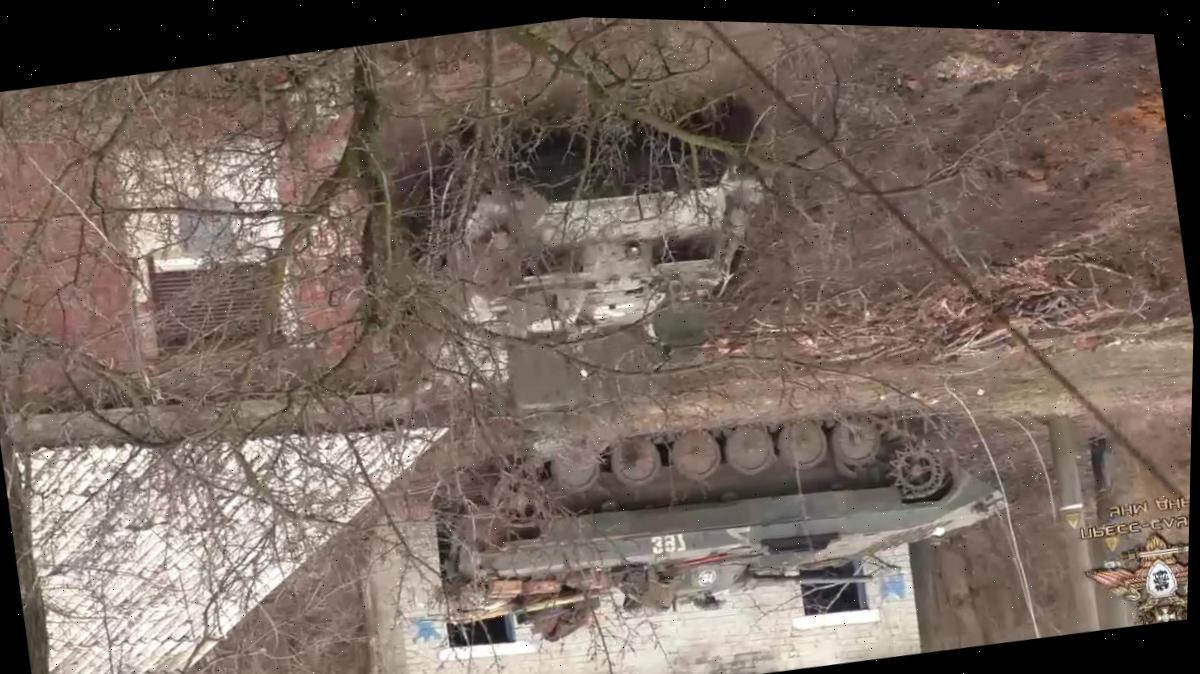tank: (441, 370, 1020, 656), (368, 80, 797, 431)
